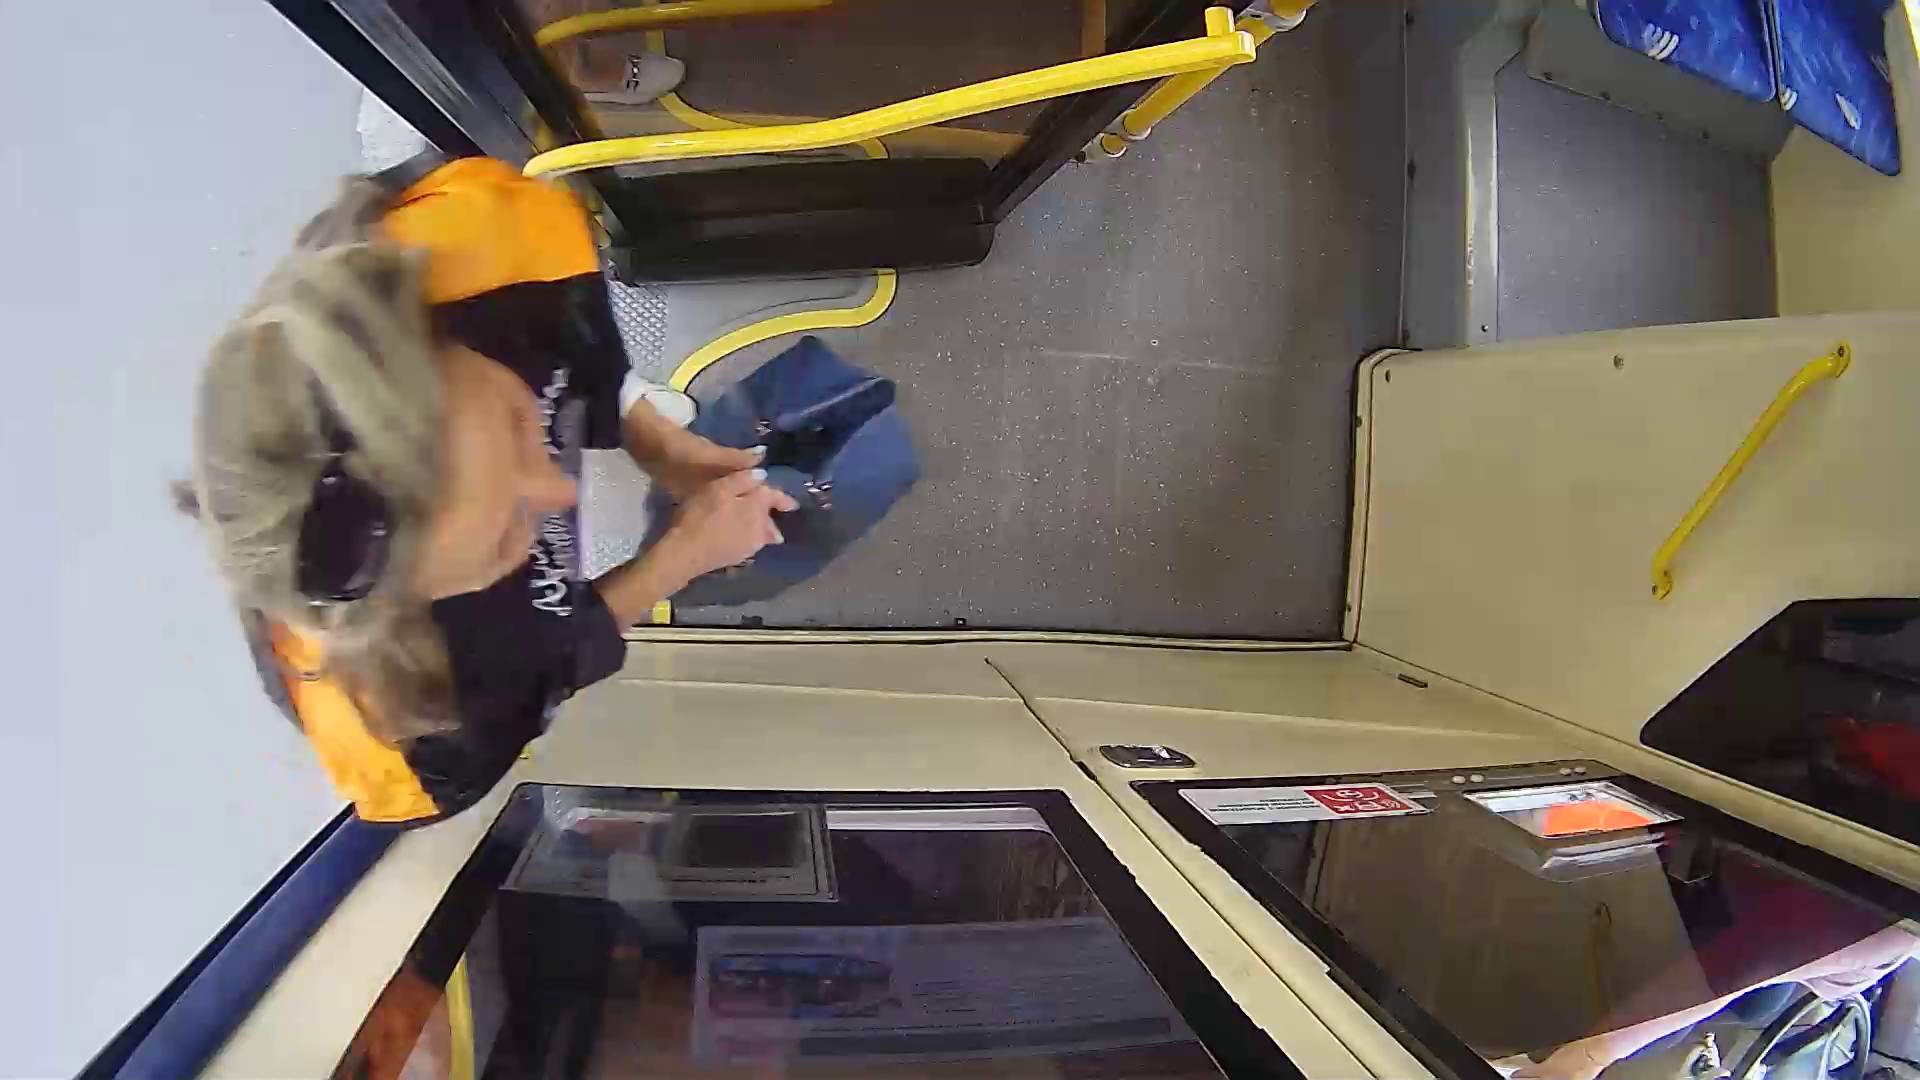person: (156, 119, 954, 801)
